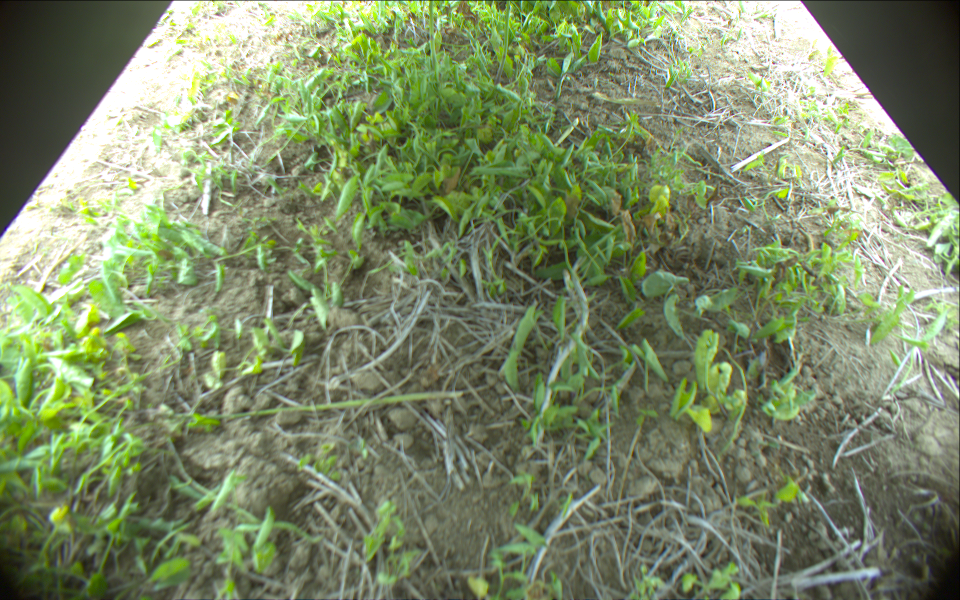aspa: (185, 392, 462, 426), (494, 1, 512, 87), (427, 1, 434, 43)
